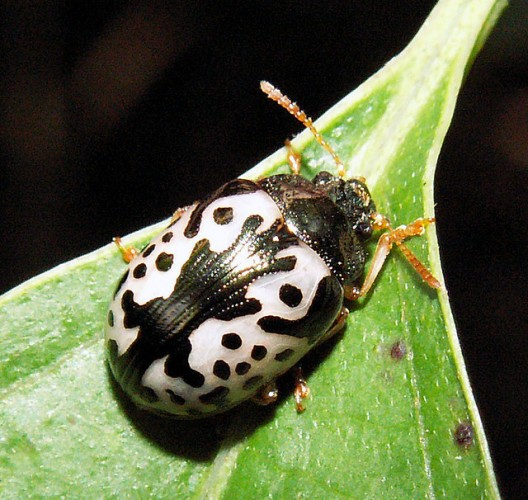Calligrapha beetle: (78, 89, 454, 442)
